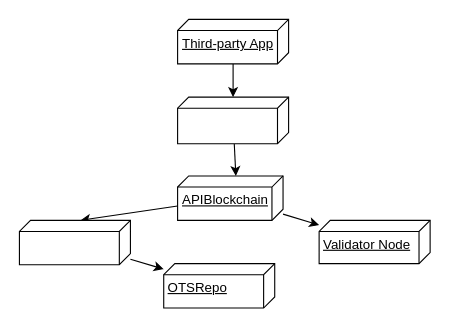
This 450x327 diagram has some shape labels left out. The centre of each missing label's shape, as x and y in pixels:
"DBManager" goes at (74,242).
"NginxGateway" goes at (232,120).
